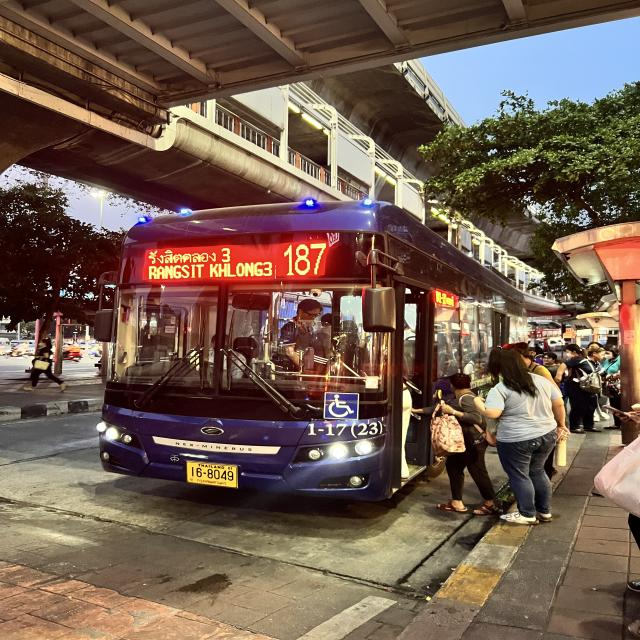Bus-Line-Number: (280, 238, 333, 280)
Destination-Sign-Normal: (138, 243, 275, 280)
TSB-Bus: (81, 193, 536, 512)
